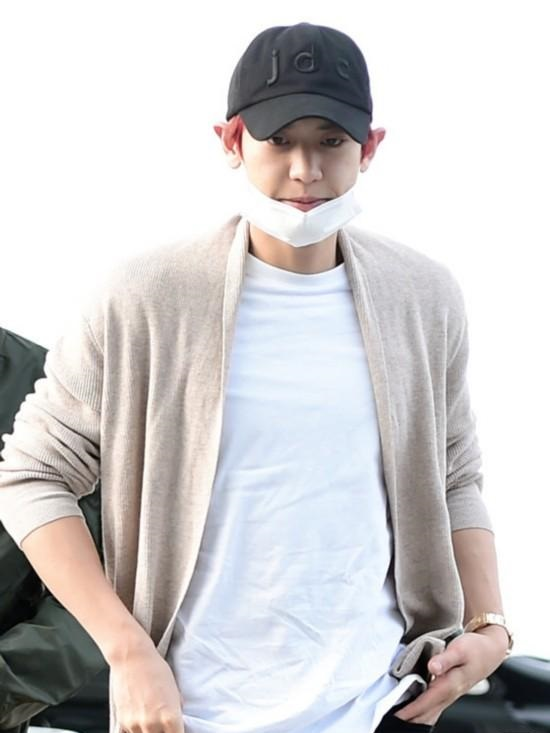face_mask: (243, 85, 359, 247)
